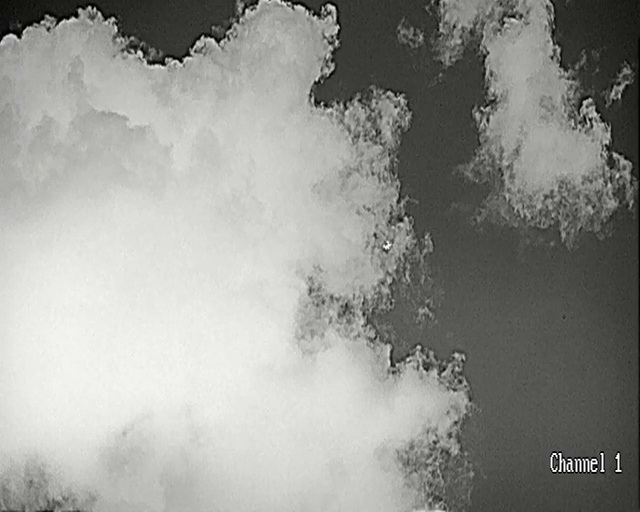uav: (382, 241, 390, 250)
